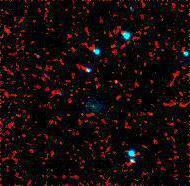star: (102, 64, 132, 94)
